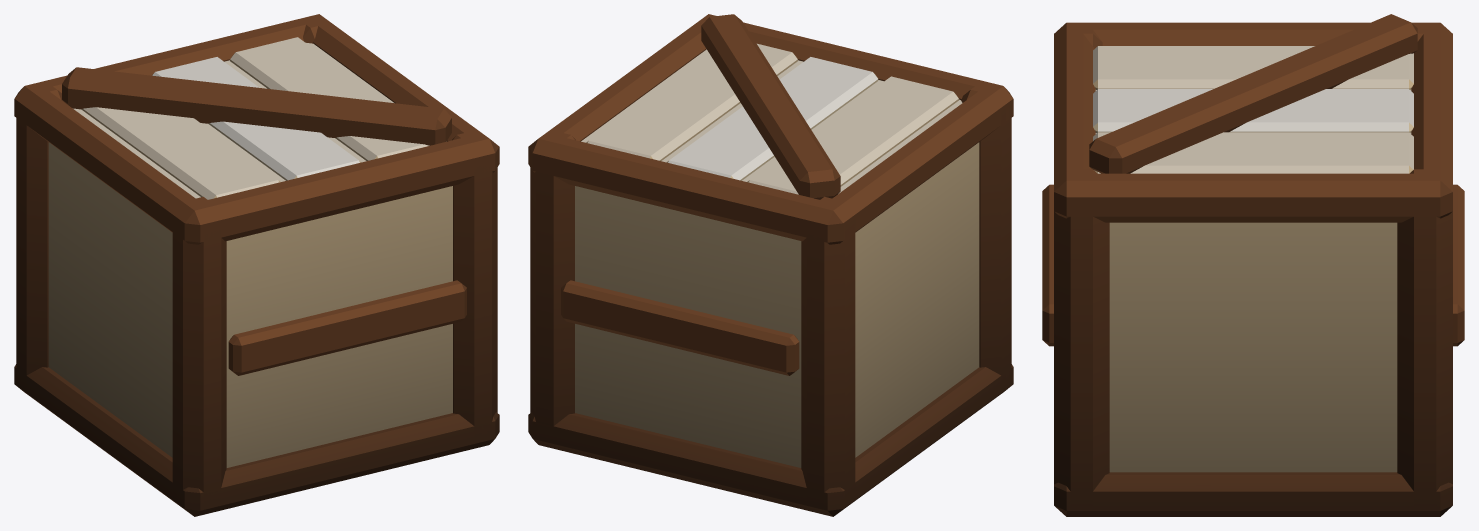
File: crate.glb
3 renders of one model, left to right at view 1: azimuth 30°, elevation 25°; view 2: azimuth 150°, elevation 25°; view 3: azimuth 270°, elevation 25°, orthographic. The views are drawn at different scales.
Visible parts, largest first — view 1: mesh_crate; view 2: mesh_crate; view 3: mesh_crate.
Boxes of the visible parts, <box> form: mesh_crate: <box>14,14,499,516</box>; mesh_crate: <box>528,14,1013,516</box>; mesh_crate: <box>1042,14,1464,516</box>.
Bounding box in the file's own units: 0.86 × 0.85 × 0.91.
